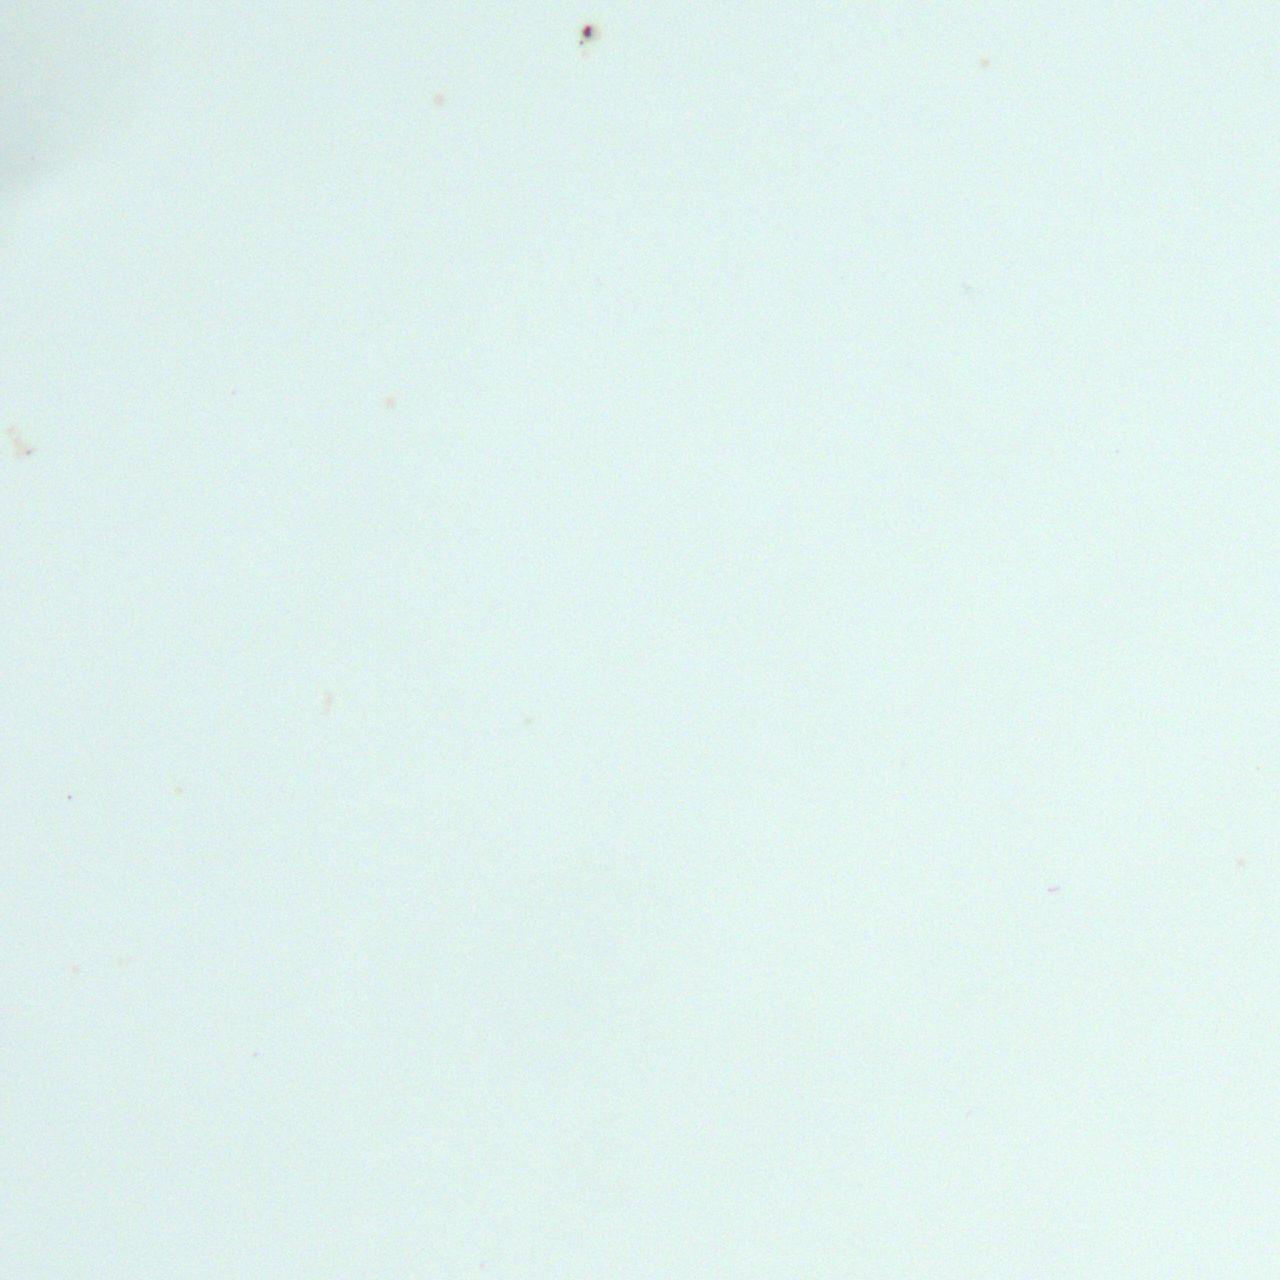dust: (579, 20, 598, 49)
